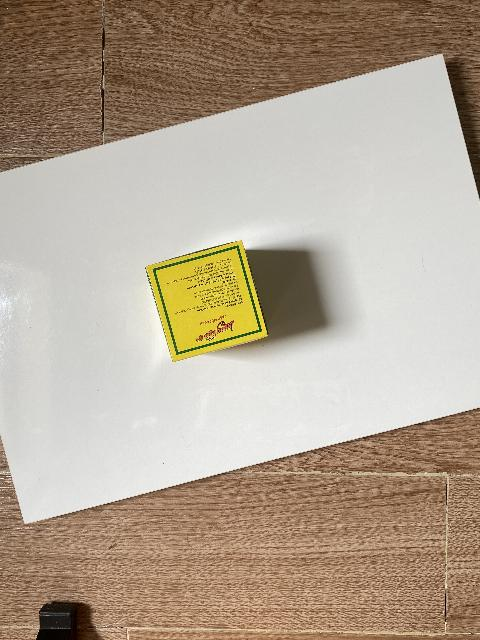luong_kho: (145, 240, 269, 363)
